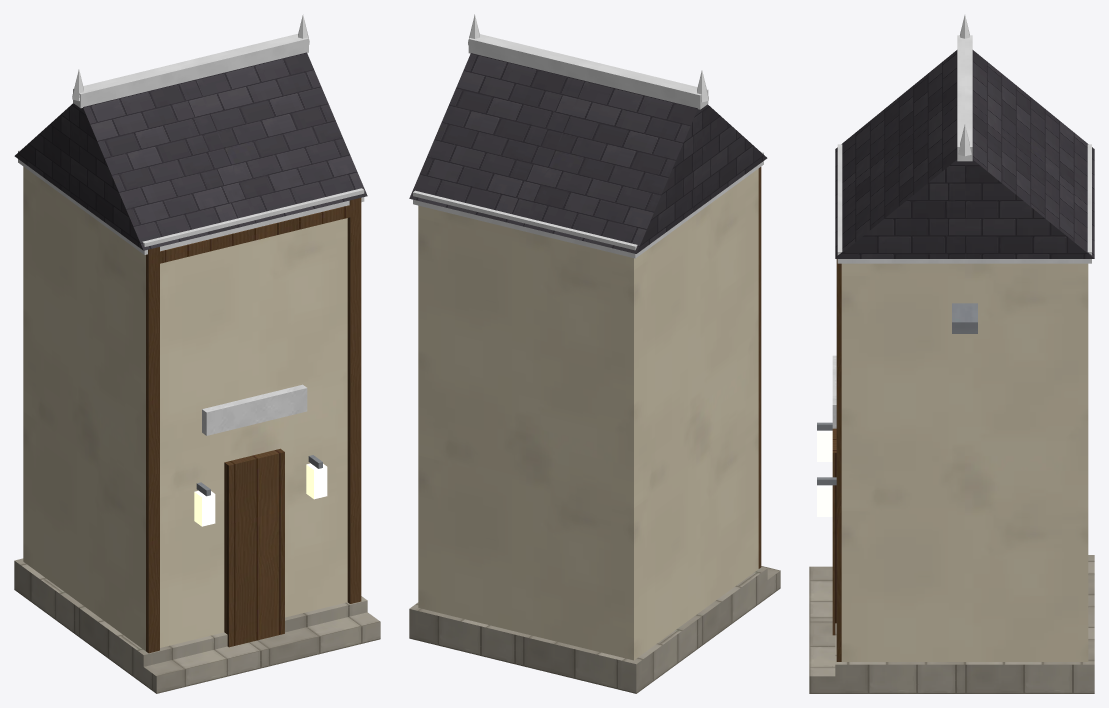
Rendered from category.bridge.t5.glb.
The picture shows the model from 3 angles, left to right: view 1: azimuth 30°, elevation 25°; view 2: azimuth 150°, elevation 25°; view 3: azimuth 270°, elevation 25°; orthographic projection.
Parts seen in each view (by area): view 1: building.category.bridge.t5; view 2: building.category.bridge.t5; view 3: building.category.bridge.t5.
Boxes of the visible parts, x1,y1,x2,y2 form: building.category.bridge.t5: (14,14,380,693); building.category.bridge.t5: (409,14,780,693); building.category.bridge.t5: (809,15,1094,693).
Size of the model in its own units: 2.36 by 4.85 by 2.2.
8 materials, 7 textured.
